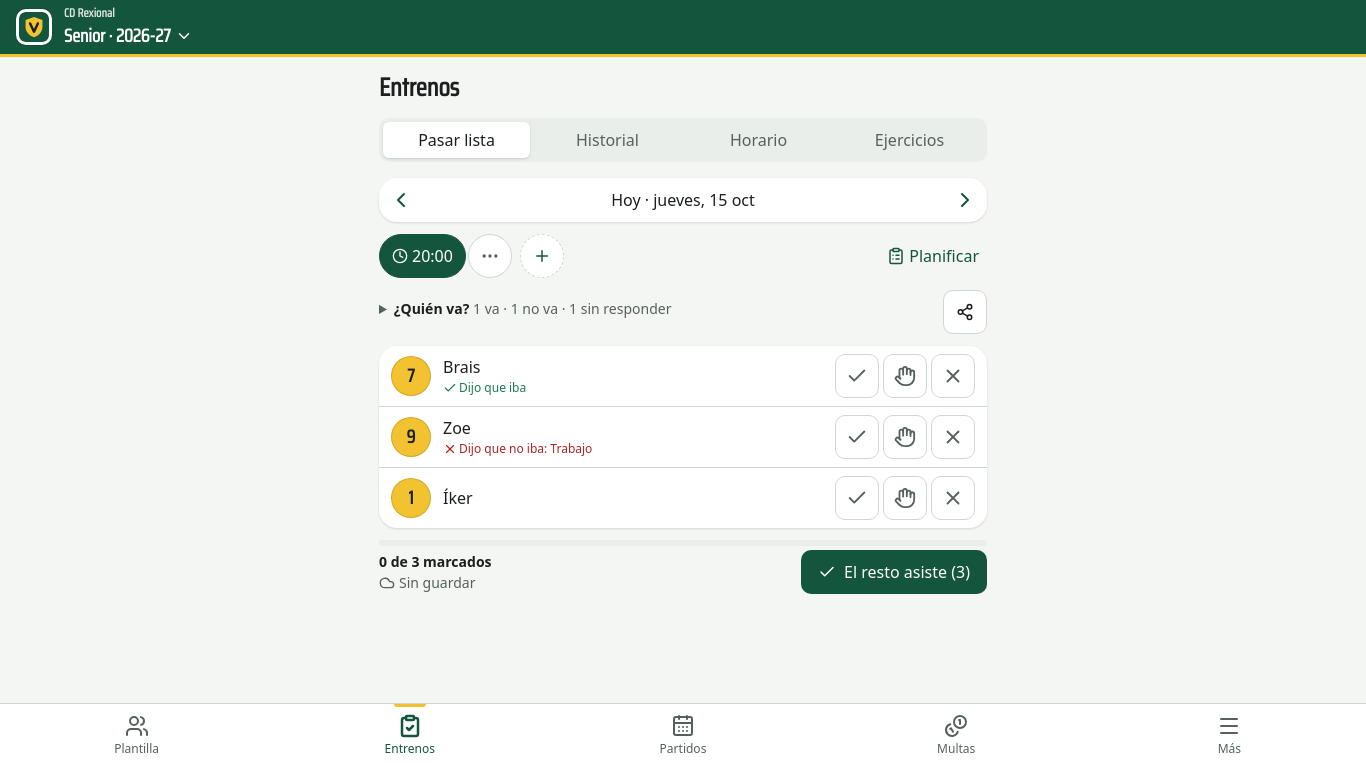
Test case: el cuerpo técnico › al pasar lista, lo que dijo cada jugador es solo una pista
expect the text "Dijo que iba" is shown: met, box 443,379 -> 526,396
expect the text "Dijo que no iba: Trabajo" is shown: met, box 443,440 -> 592,457
Click the button named "Pedir confirmación": coordinates (965, 312) 943,290 -> 987,334
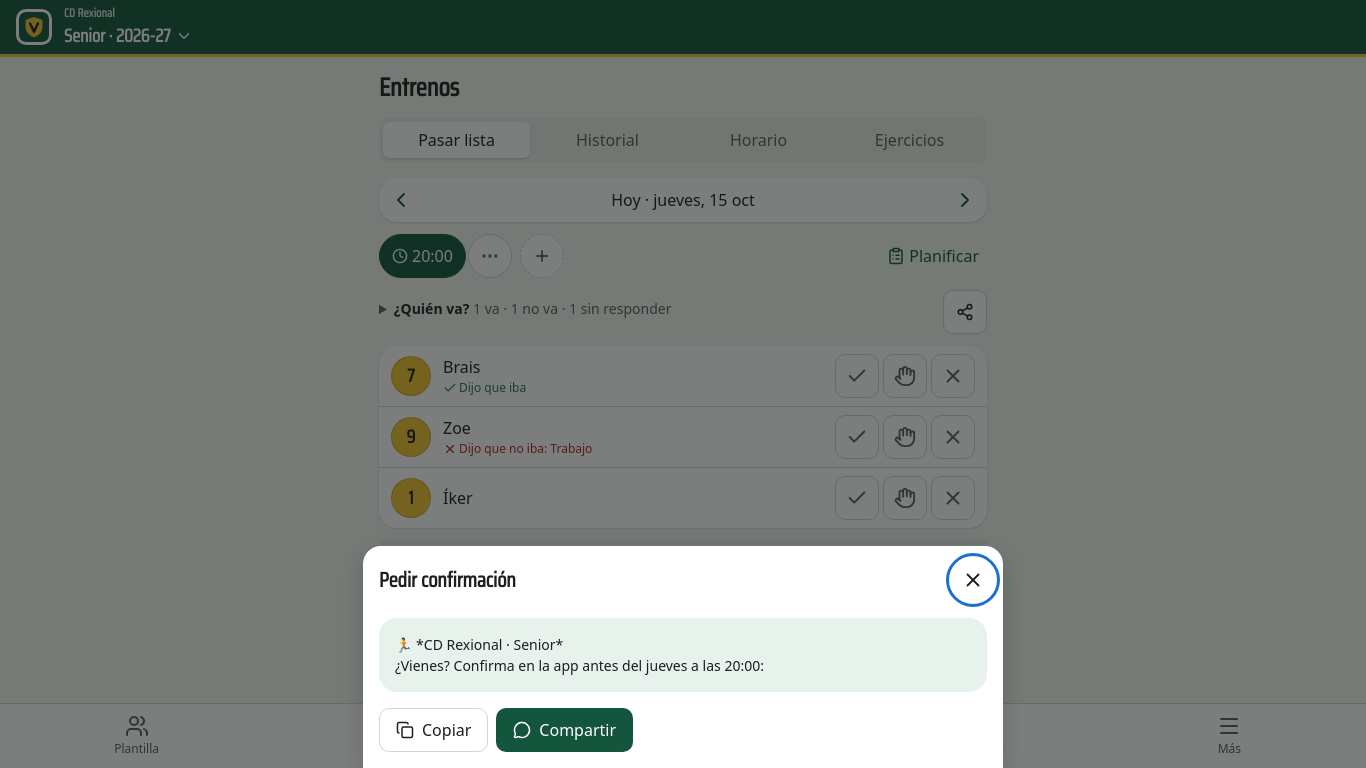
expect the text "¿Vienes? Confirma en la app" is shown: met, box 395,635 -> 764,675
